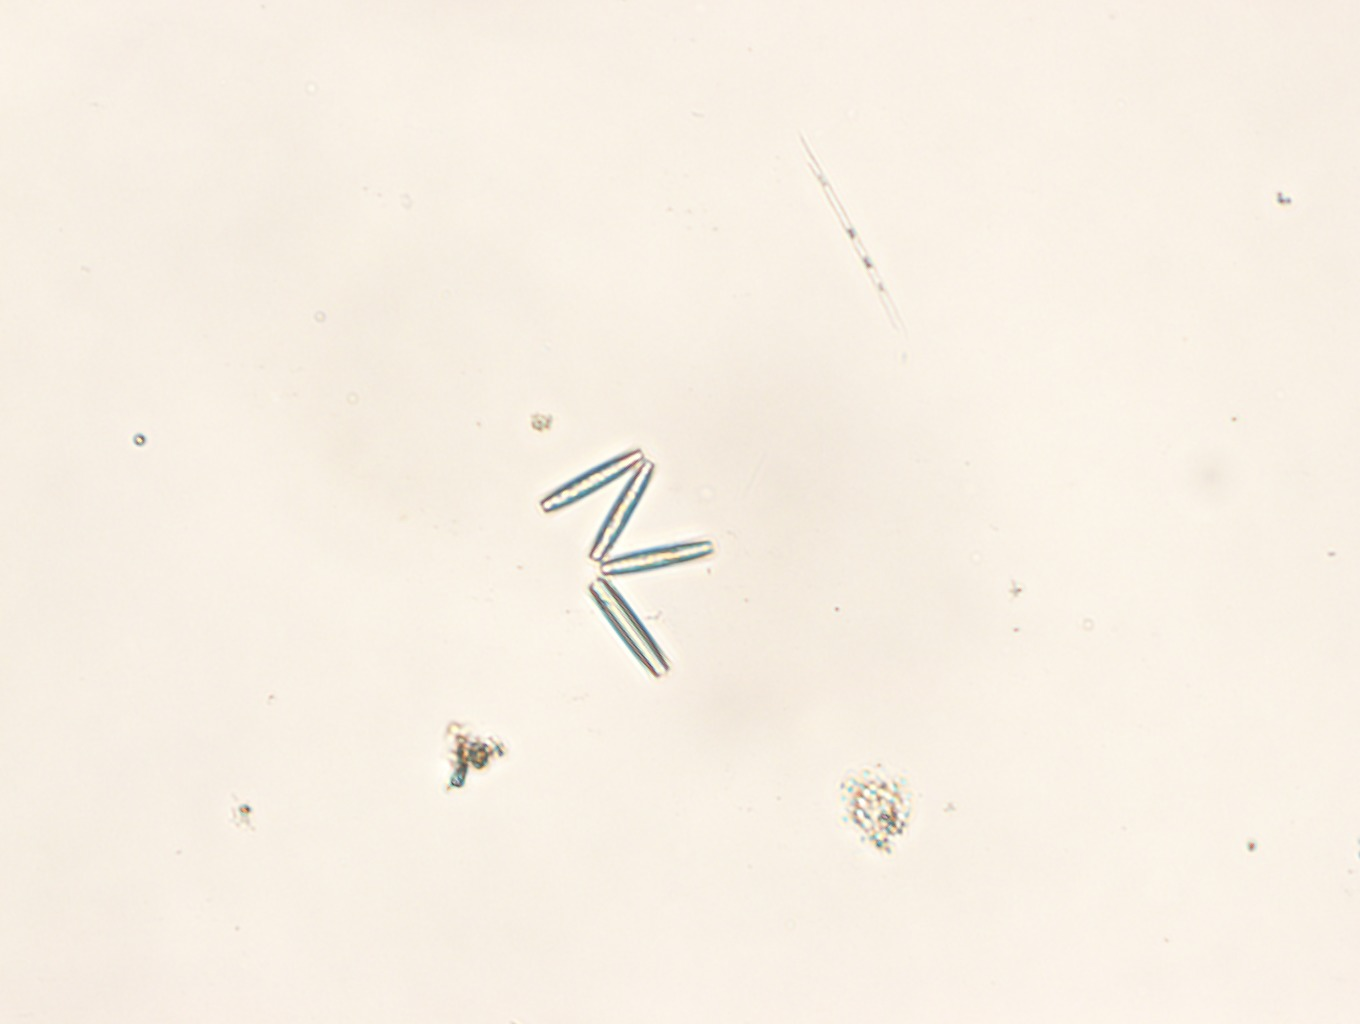thalassionema nitzschioides: (538, 446, 712, 678)
